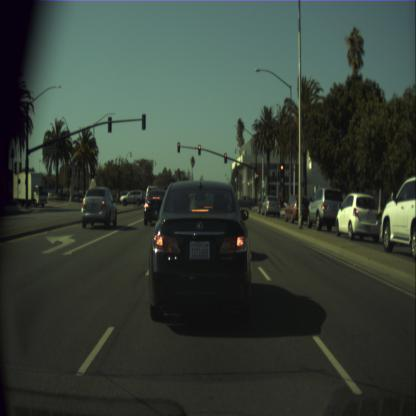Red: (280, 164, 284, 182), (224, 152, 227, 163), (177, 142, 180, 152), (198, 144, 200, 154), (256, 173, 258, 183)
RedLeft: (91, 171, 93, 180)
